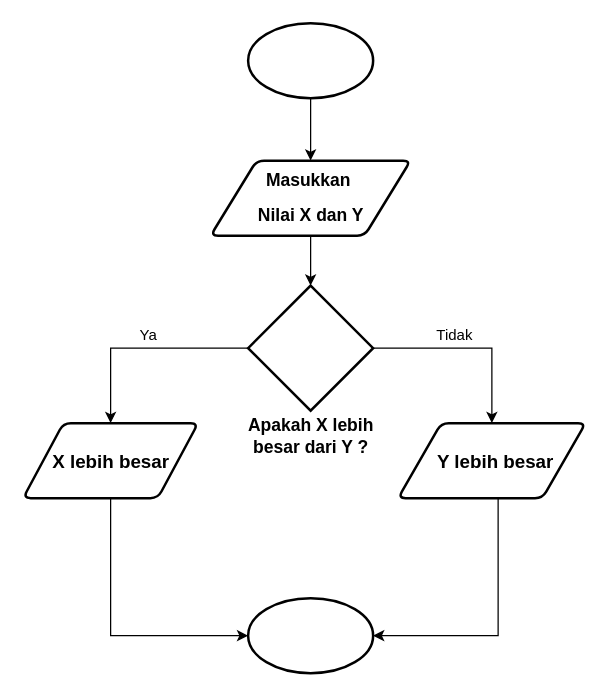
This 608x695 diagram has some shape labels left out. The shapes that lost their labels are listed below. From the top down, each one's box as (x1, y1, x2, y2) in pixels, then its label:
(246, 21, 374, 99): Mulai
(246, 596, 374, 674): Selesai
